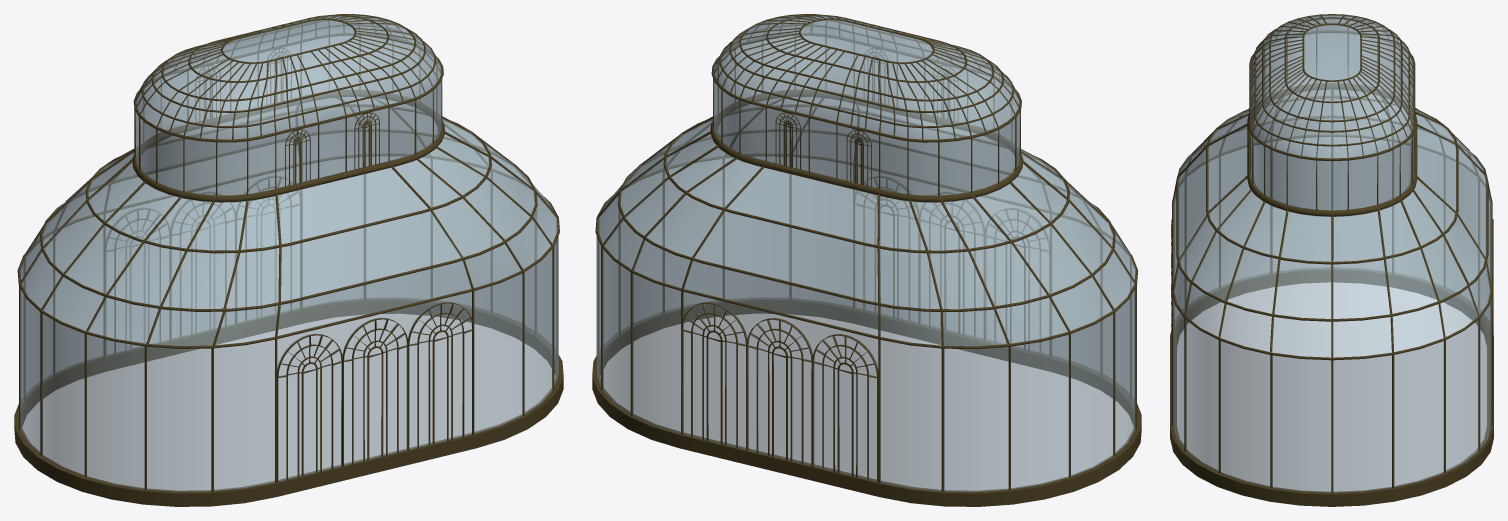
File: Greenhouse2.fbx
3 renders of one model, left to right at view 1: azimuth 30°, elevation 25°; view 2: azimuth 150°, elevation 25°; view 3: azimuth 270°, elevation 25°, orthographic. The views are drawn at different scales.
Parts seen in each view (by area): view 1: korpus_2; view 2: korpus_2; view 3: korpus_2.
Boxes of the visible parts, x1,y1,x2,y2 form: korpus_2: [14, 14, 563, 506]; korpus_2: [592, 14, 1141, 506]; korpus_2: [1170, 14, 1493, 506].
Bounding box in the file's own units: 2371 × 1657 × 1426.
